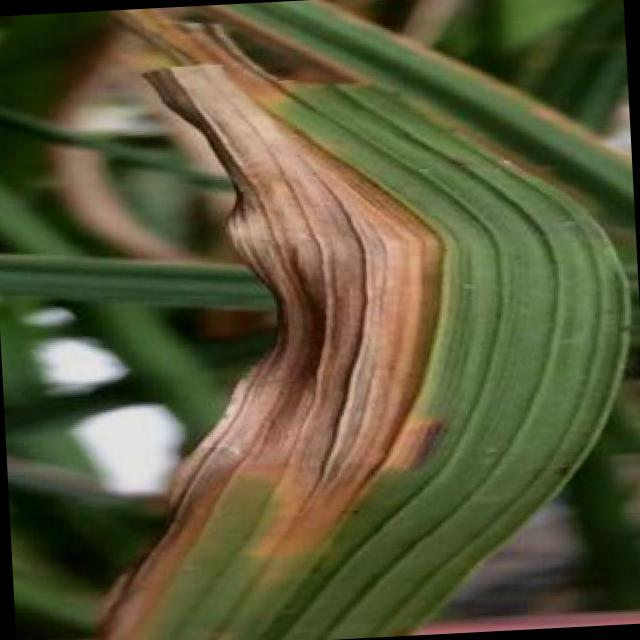Rice_Bacterial_Blight: (202, 82, 606, 577)
